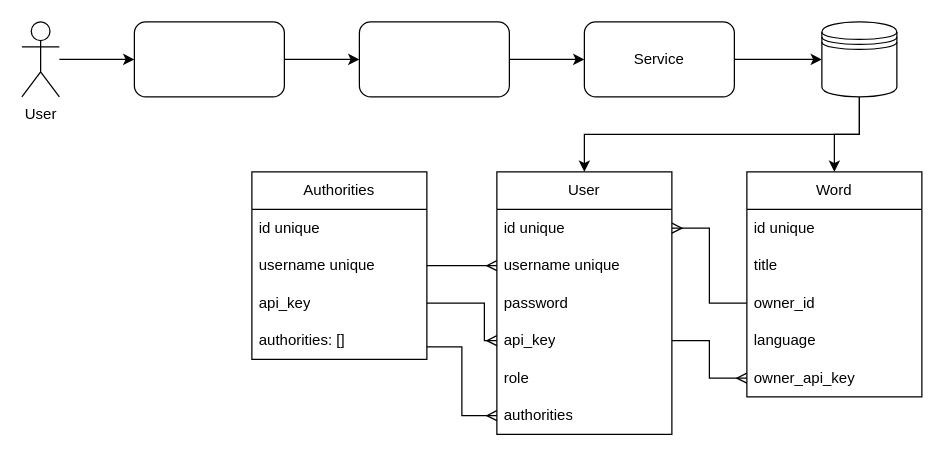
Image size: 944x456. Some labels were removed from this diagram. Each missing label, with the centre of its shape:
"AuthenticationFilter" belongs at (208,59).
"Controller" belongs at (433,59).
"PostgreSQL" belongs at (859,59).
